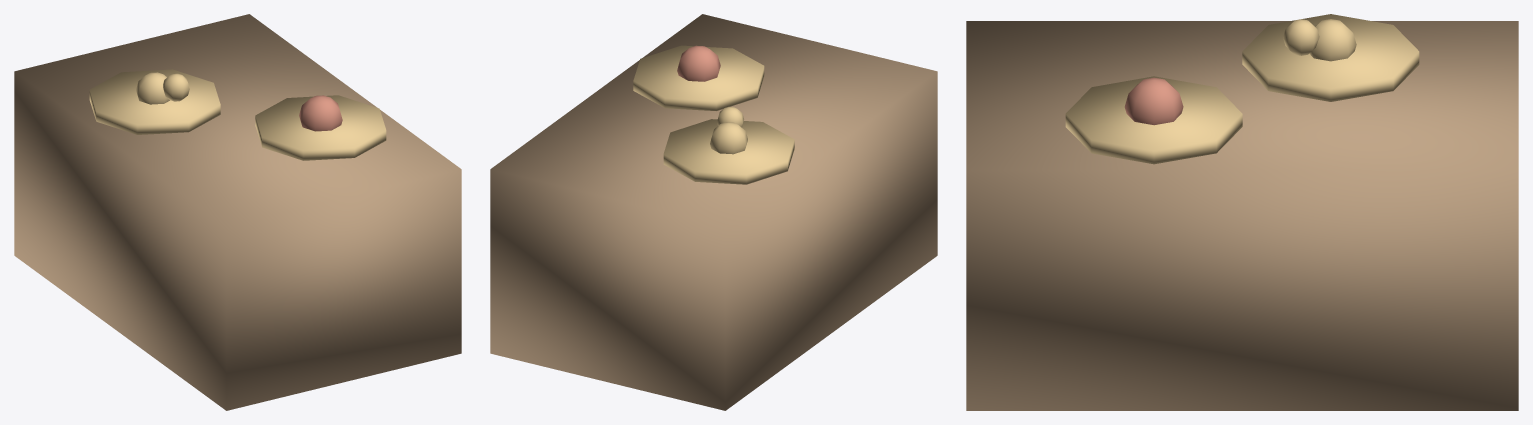
Rendered from thai_dessert_stall.glb.
The picture shows the model from 3 angles, left to right: view 1: azimuth 30°, elevation 25°; view 2: azimuth 150°, elevation 25°; view 3: azimuth 270°, elevation 25°; orthographic projection. The views are drawn at different scales.
Visible parts, largest first — view 1: counter, pan_r, pan_l, thong_yip, foy_thong1, foy_thong2; view 2: counter, pan_l, pan_r, thong_yip, foy_thong1; view 3: counter, pan_r, pan_l, thong_yip, foy_thong1, foy_thong2.
Boxes of the visible parts, left/top/right/bottom form: counter: left=14, top=14, right=461, bottom=410; pan_r: left=255, top=95, right=386, bottom=160; pan_l: left=89, top=69, right=220, bottom=134; thong_yip: left=299, top=95, right=342, bottom=131; foy_thong1: left=136, top=72, right=169, bottom=104; foy_thong2: left=163, top=73, right=189, bottom=101; counter: left=490, top=14, right=937, bottom=410; pan_l: left=663, top=119, right=794, bottom=184; pan_r: left=633, top=45, right=764, bottom=110; thong_yip: left=677, top=45, right=720, bottom=81; foy_thong1: left=710, top=122, right=747, bottom=154; counter: left=966, top=21, right=1518, bottom=410; pan_r: left=1065, top=76, right=1242, bottom=164; pan_l: left=1242, top=14, right=1419, bottom=101; thong_yip: left=1124, top=77, right=1183, bottom=125; foy_thong1: left=1309, top=19, right=1356, bottom=61; foy_thong2: left=1283, top=19, right=1319, bottom=55.
Size of the model in its own units: 0.48 by 0.435 by 0.75.
